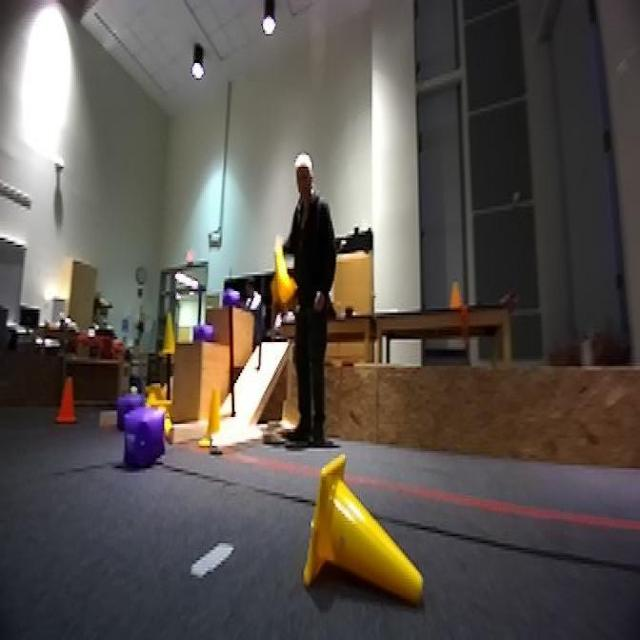frc_cone: (299, 460, 429, 590), (269, 235, 298, 303), (151, 303, 179, 361), (198, 385, 223, 444), (155, 398, 175, 436), (143, 379, 168, 402)
frc_cube: (124, 410, 166, 472), (113, 393, 143, 412), (191, 318, 218, 339), (219, 288, 241, 310)
